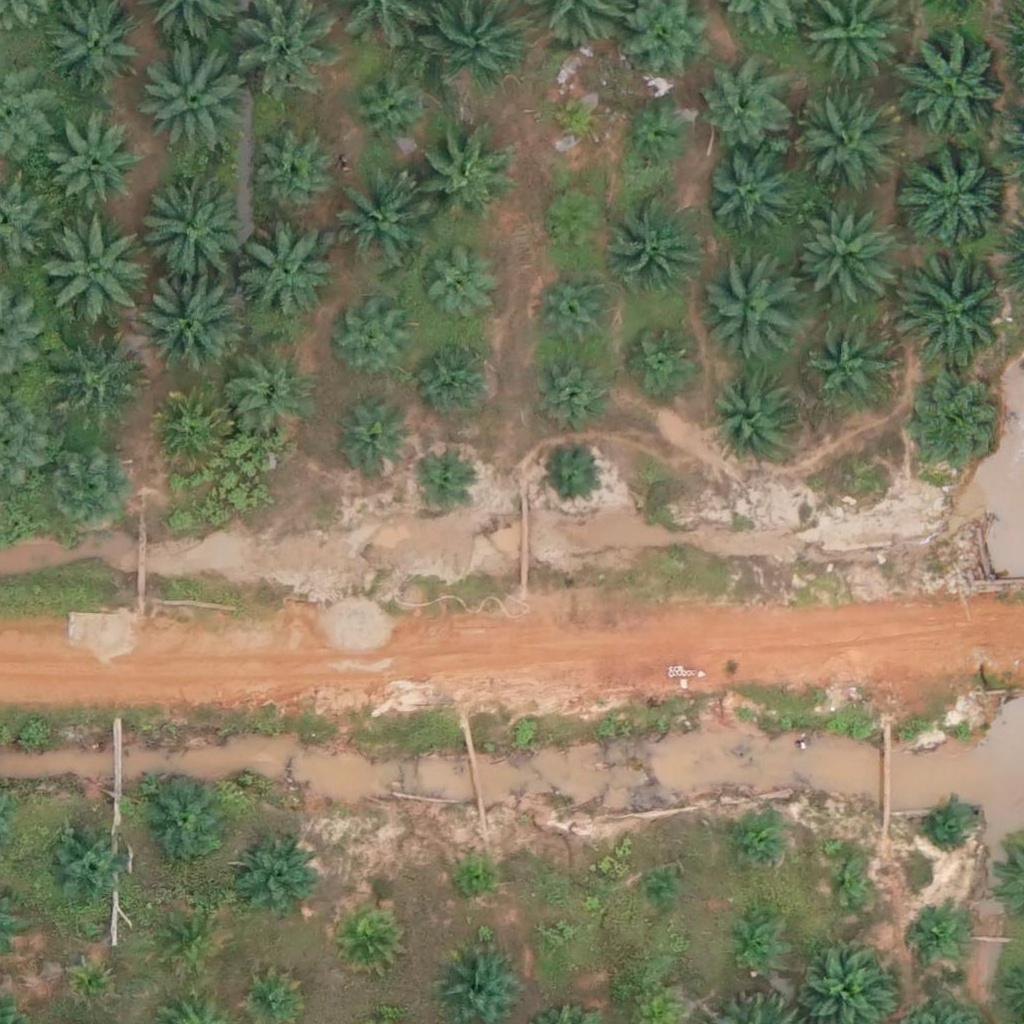Kelapa_Sawit: (131, 40, 244, 154), (897, 29, 1010, 142), (901, 140, 1014, 253), (136, 267, 249, 380), (128, 171, 241, 284), (36, 213, 148, 327), (900, 252, 1012, 365), (903, 379, 1003, 480), (795, 98, 895, 199), (791, 206, 891, 307), (411, 127, 511, 228), (325, 176, 425, 277), (235, 224, 335, 325), (43, 329, 143, 430), (610, 193, 710, 294), (702, 258, 802, 358), (41, 821, 129, 909), (699, 66, 787, 154), (524, 349, 612, 437), (143, 387, 231, 475), (346, 65, 434, 153), (53, 125, 141, 213), (702, 153, 789, 242), (142, 777, 229, 865), (809, 324, 896, 412), (711, 373, 798, 461), (534, 268, 621, 356), (251, 134, 338, 222), (228, 354, 315, 442), (44, 446, 131, 534), (238, 845, 313, 921), (417, 251, 492, 327), (419, 339, 494, 415), (618, 99, 693, 175), (537, 186, 612, 262), (625, 321, 700, 396), (337, 306, 412, 381), (335, 406, 410, 481), (338, 905, 401, 968), (408, 447, 471, 510), (541, 443, 603, 506), (161, 911, 223, 974), (544, 87, 606, 150), (913, 907, 963, 958), (920, 797, 970, 847), (823, 860, 873, 910), (731, 814, 781, 864), (726, 917, 776, 967), (640, 875, 678, 913), (454, 859, 491, 897), (69, 960, 106, 997), (543, 922, 568, 948)
